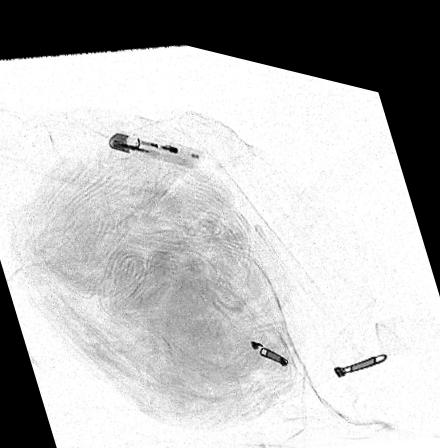Lighter: (108, 127, 201, 161)
